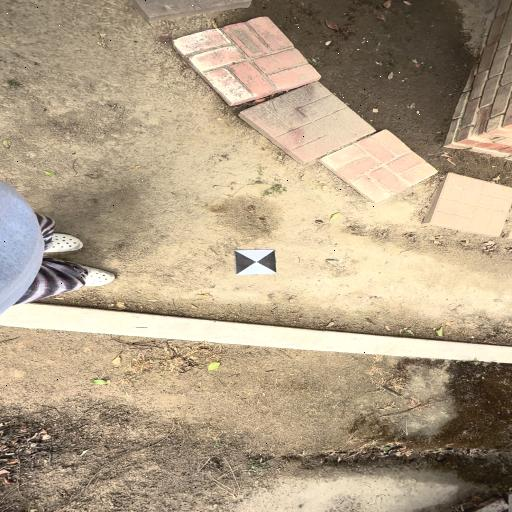target: (236, 250, 277, 274)
